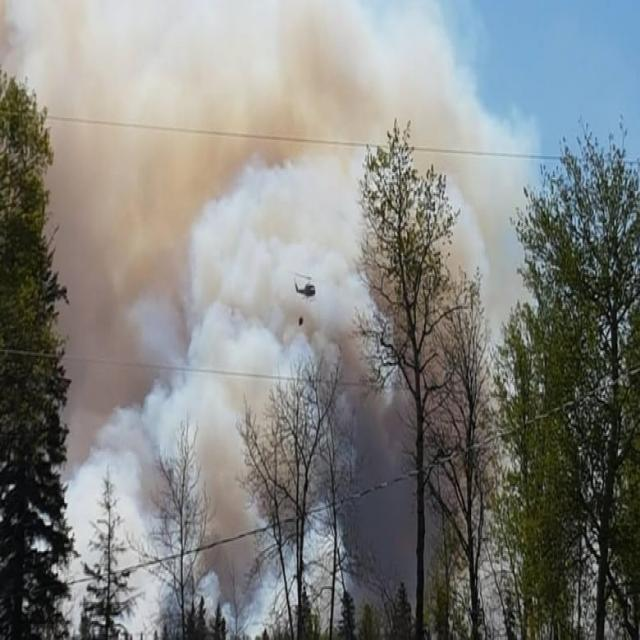Smoke: (70, 0, 490, 602)
